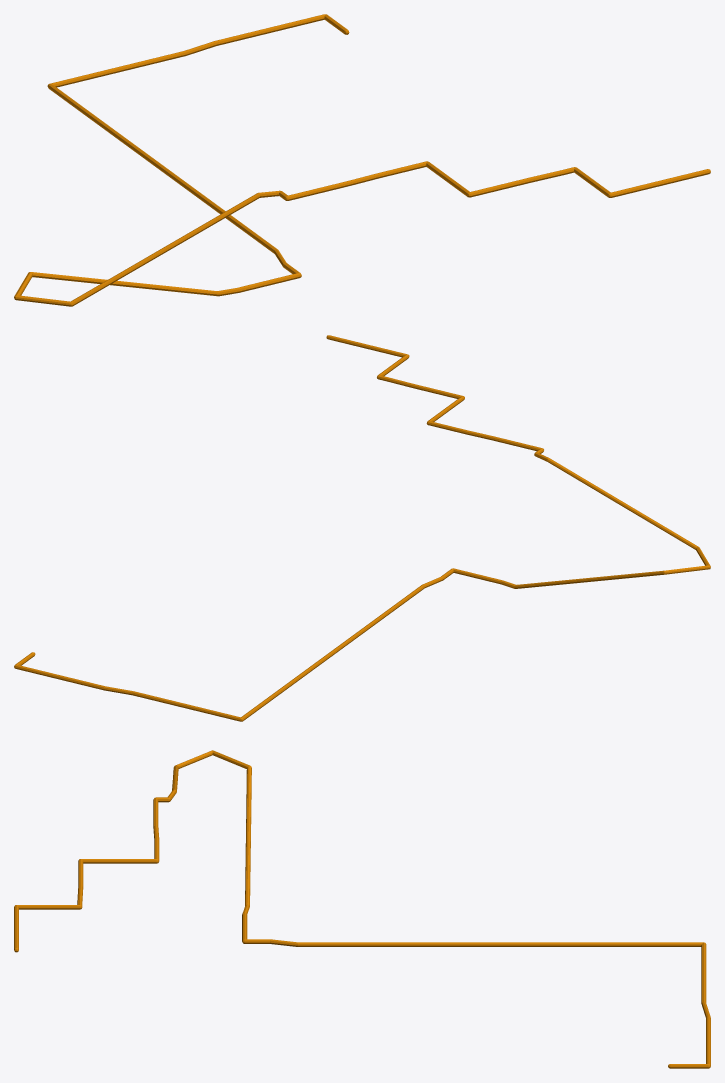
The picture shows the model from 3 angles, top to bottom: view 1: azimuth 30°, elevation 25°; view 2: azimuth 150°, elevation 25°; view 3: azimuth 270°, elevation 25°; orthographic projection. The views are drawn at different scales.
Size of the model in its own units: 2409 by 520 by 2748.
